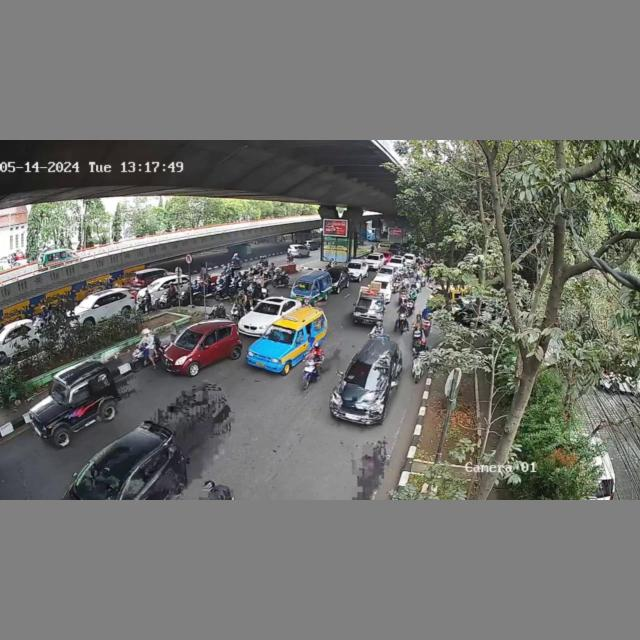windshield: (347, 356, 390, 388), (265, 325, 298, 345), (174, 327, 201, 350), (253, 302, 280, 317)
